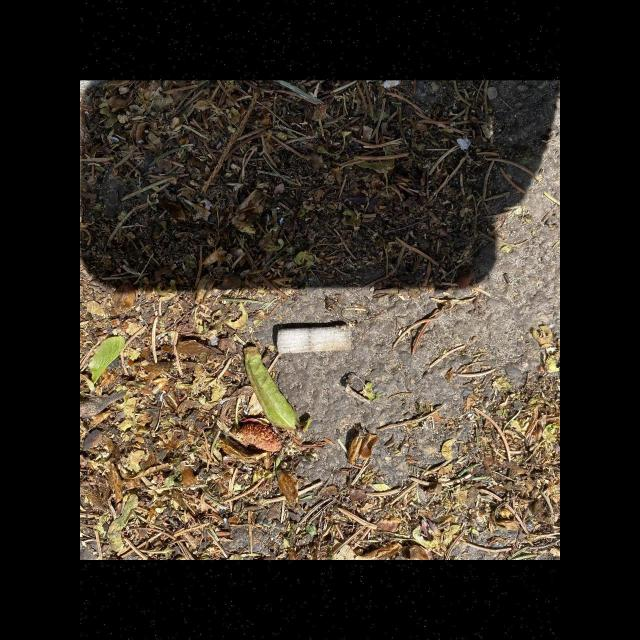cigarette: (276, 324, 354, 354)
